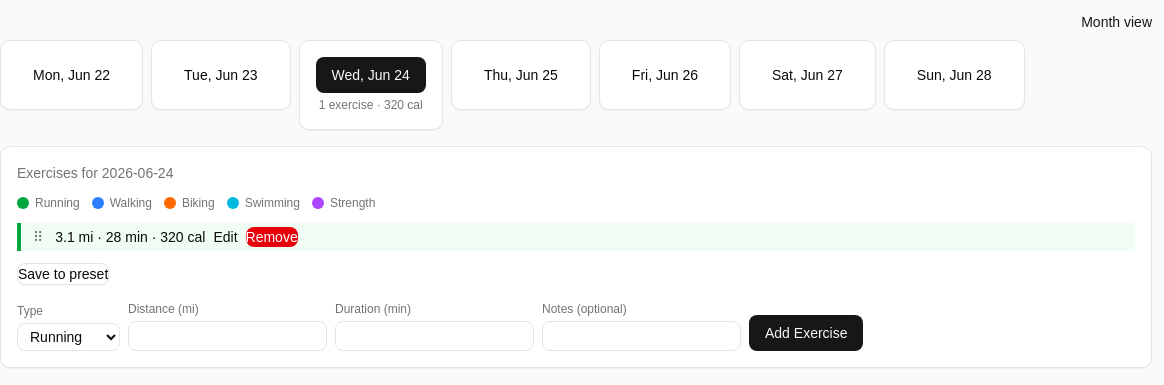
Test: ExerciseCalendarPage › cancelling an edit returns the form to add mode without changing the row
Expected: the text "3.1 mi · 28 min · 320 cal" is shown, [55, 227, 206, 247]
Click the button "Edit" at [225, 237], box [213, 227, 238, 247]
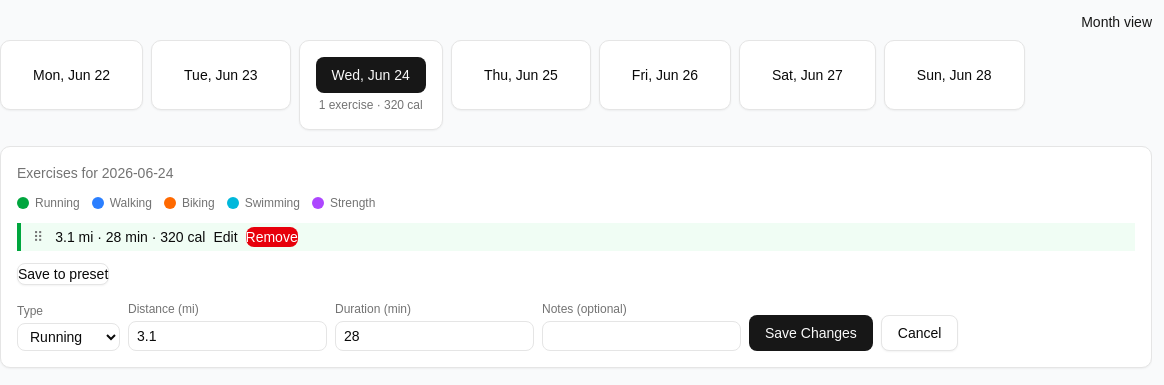
Result: the button "Cancel" is shown
Click the button "Cancel" at [920, 333], box [881, 315, 958, 351]
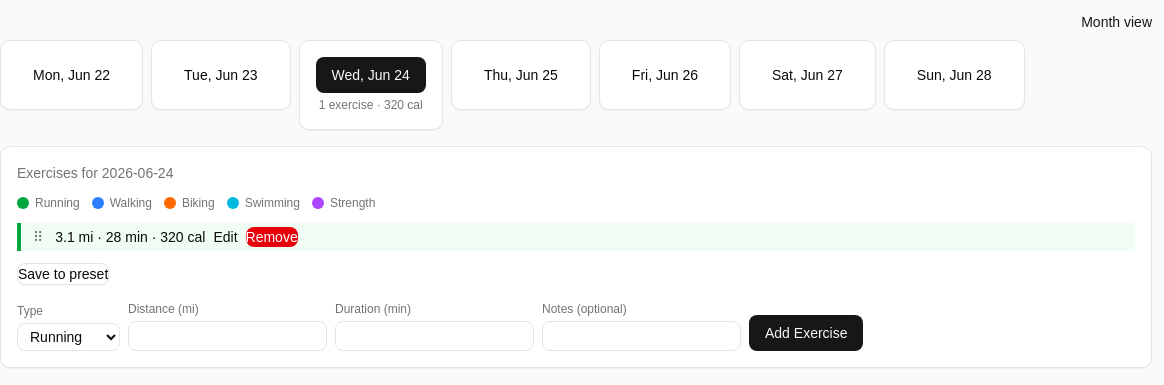
Expected: the text "3.1 mi · 28 min · 320 cal" is shown, [55, 227, 206, 247]
Result: the button "Cancel" is gone
Result: the number field labelled "Distance (mi)" is not empty at [128, 321, 327, 351]
